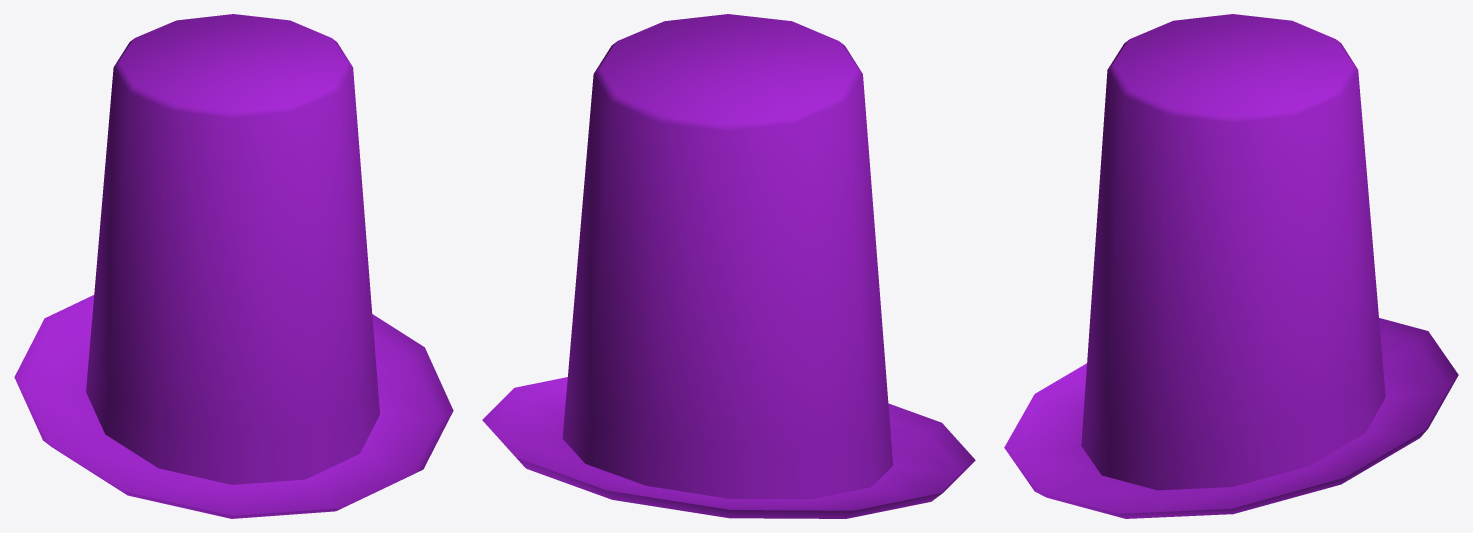
The model's file is shop cont hat 3 lod1.FBX.
3 views of the same model, side by side, from view 1: azimuth 30°, elevation 25°; view 2: azimuth 150°, elevation 25°; view 3: azimuth 270°, elevation 25° (orthographic). The views are drawn at different scales.
Visible parts, largest first — view 1: Cylinder292; view 2: Cylinder292; view 3: Cylinder292.
Part boxes in pixels (x1,y1,x2,y2): Cylinder292: (14, 14, 453, 518); Cylinder292: (482, 14, 975, 518); Cylinder292: (1004, 14, 1458, 518).
Bounding box in the file's own units: 0.4082 × 0.3823 × 0.402.
